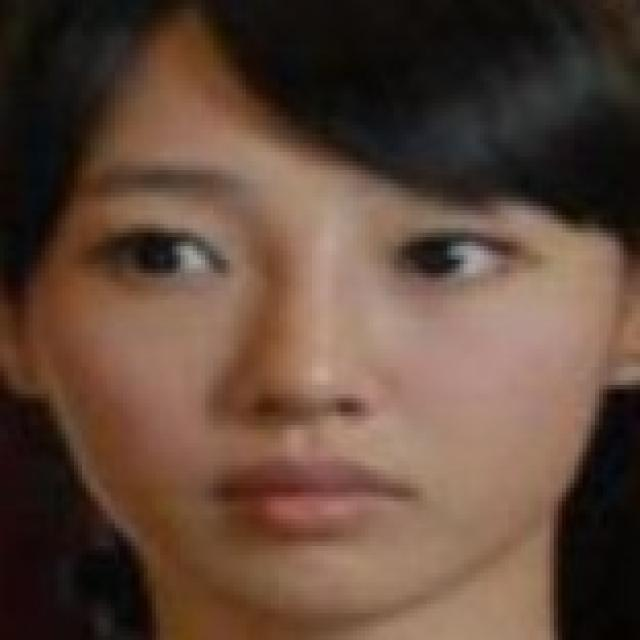no_mask: (45, 60, 600, 596)
